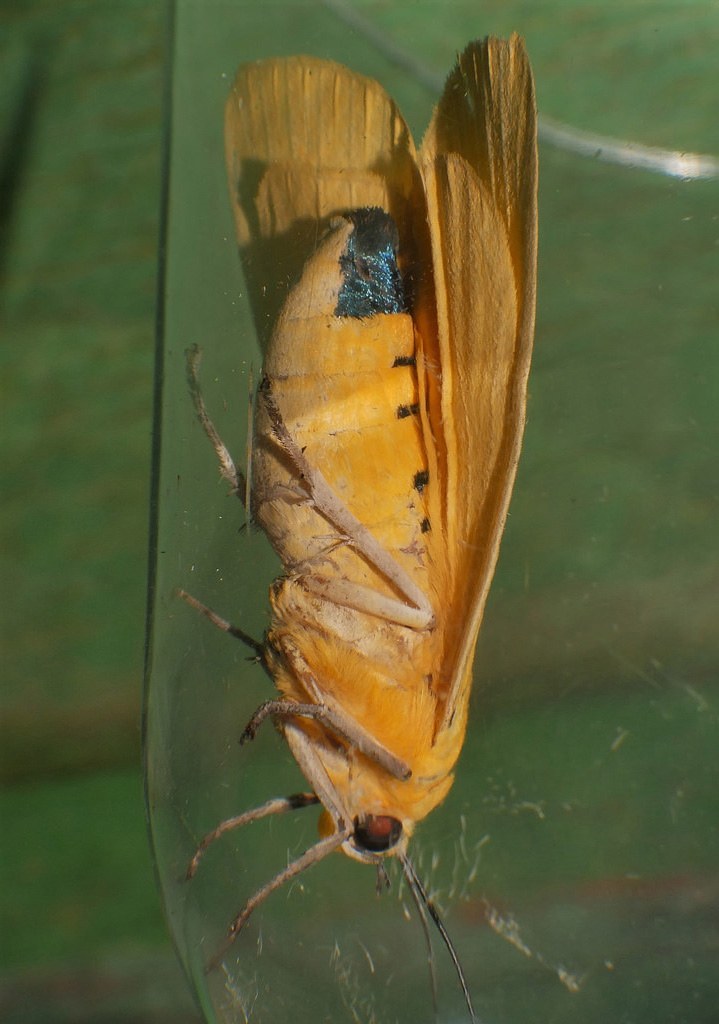Agape chloropyga: (170, 28, 543, 1022)
moth: (172, 30, 545, 1024)
